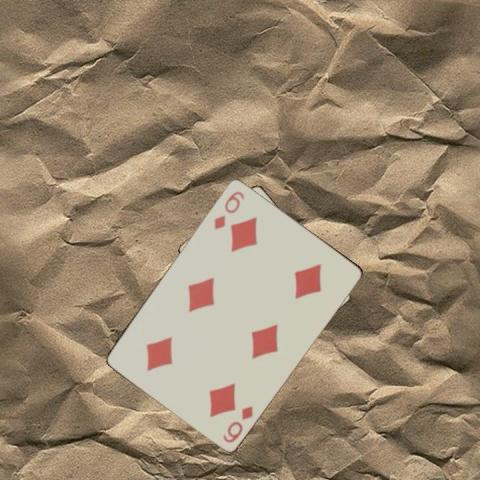6d: (211, 187, 246, 231), (220, 402, 255, 444)
